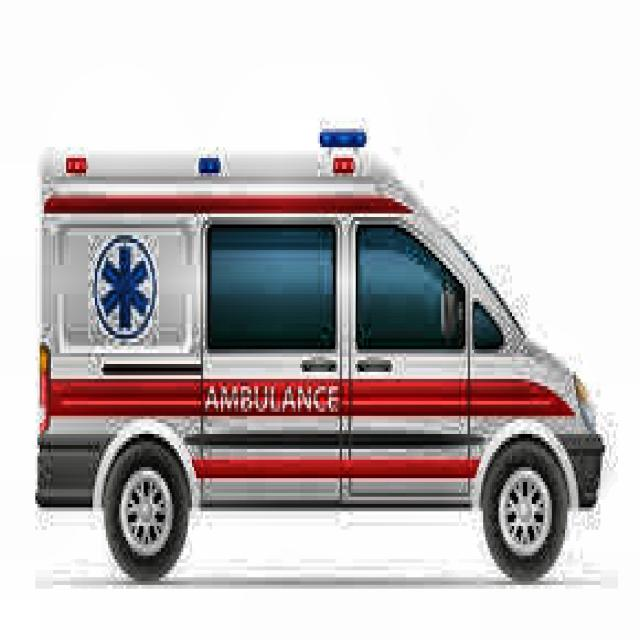Ambulance: (35, 129, 602, 577)
